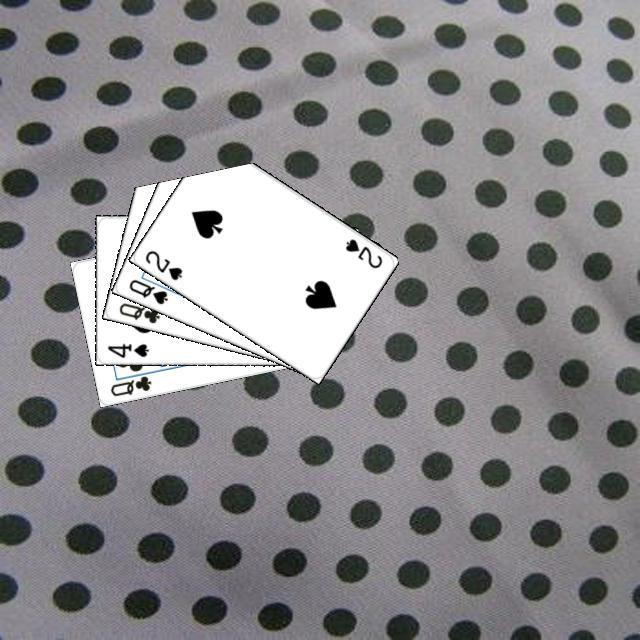2s: (140, 245, 184, 282), (340, 234, 384, 270)
4s: (103, 339, 150, 359)
Qc: (114, 292, 168, 325), (105, 366, 155, 398)
Qs: (124, 274, 169, 306)
